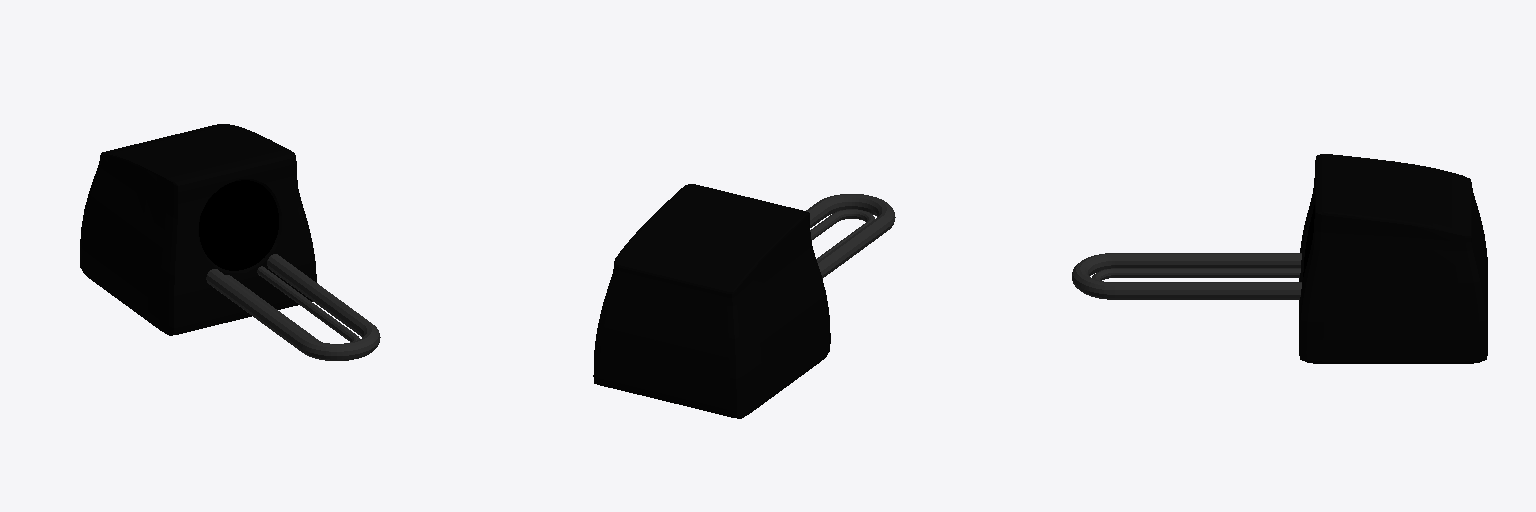
Rendered from Bowling_Ball_Return.obj.
3 renders of one model, left to right at view 1: azimuth 30°, elevation 25°; view 2: azimuth 150°, elevation 25°; view 3: azimuth 270°, elevation 25°, orthographic.
Parts seen in each view (by area): view 1: Torus.003_Torus.004; view 2: Torus.003_Torus.004; view 3: Torus.003_Torus.004.
Boxes of the visible parts, x1,y1,x2,y2 form: Torus.003_Torus.004: [80, 124, 380, 360]; Torus.003_Torus.004: [593, 184, 895, 418]; Torus.003_Torus.004: [1072, 154, 1487, 363].
Bounding box in the file's own units: 1.22 × 1.14 × 2.96.